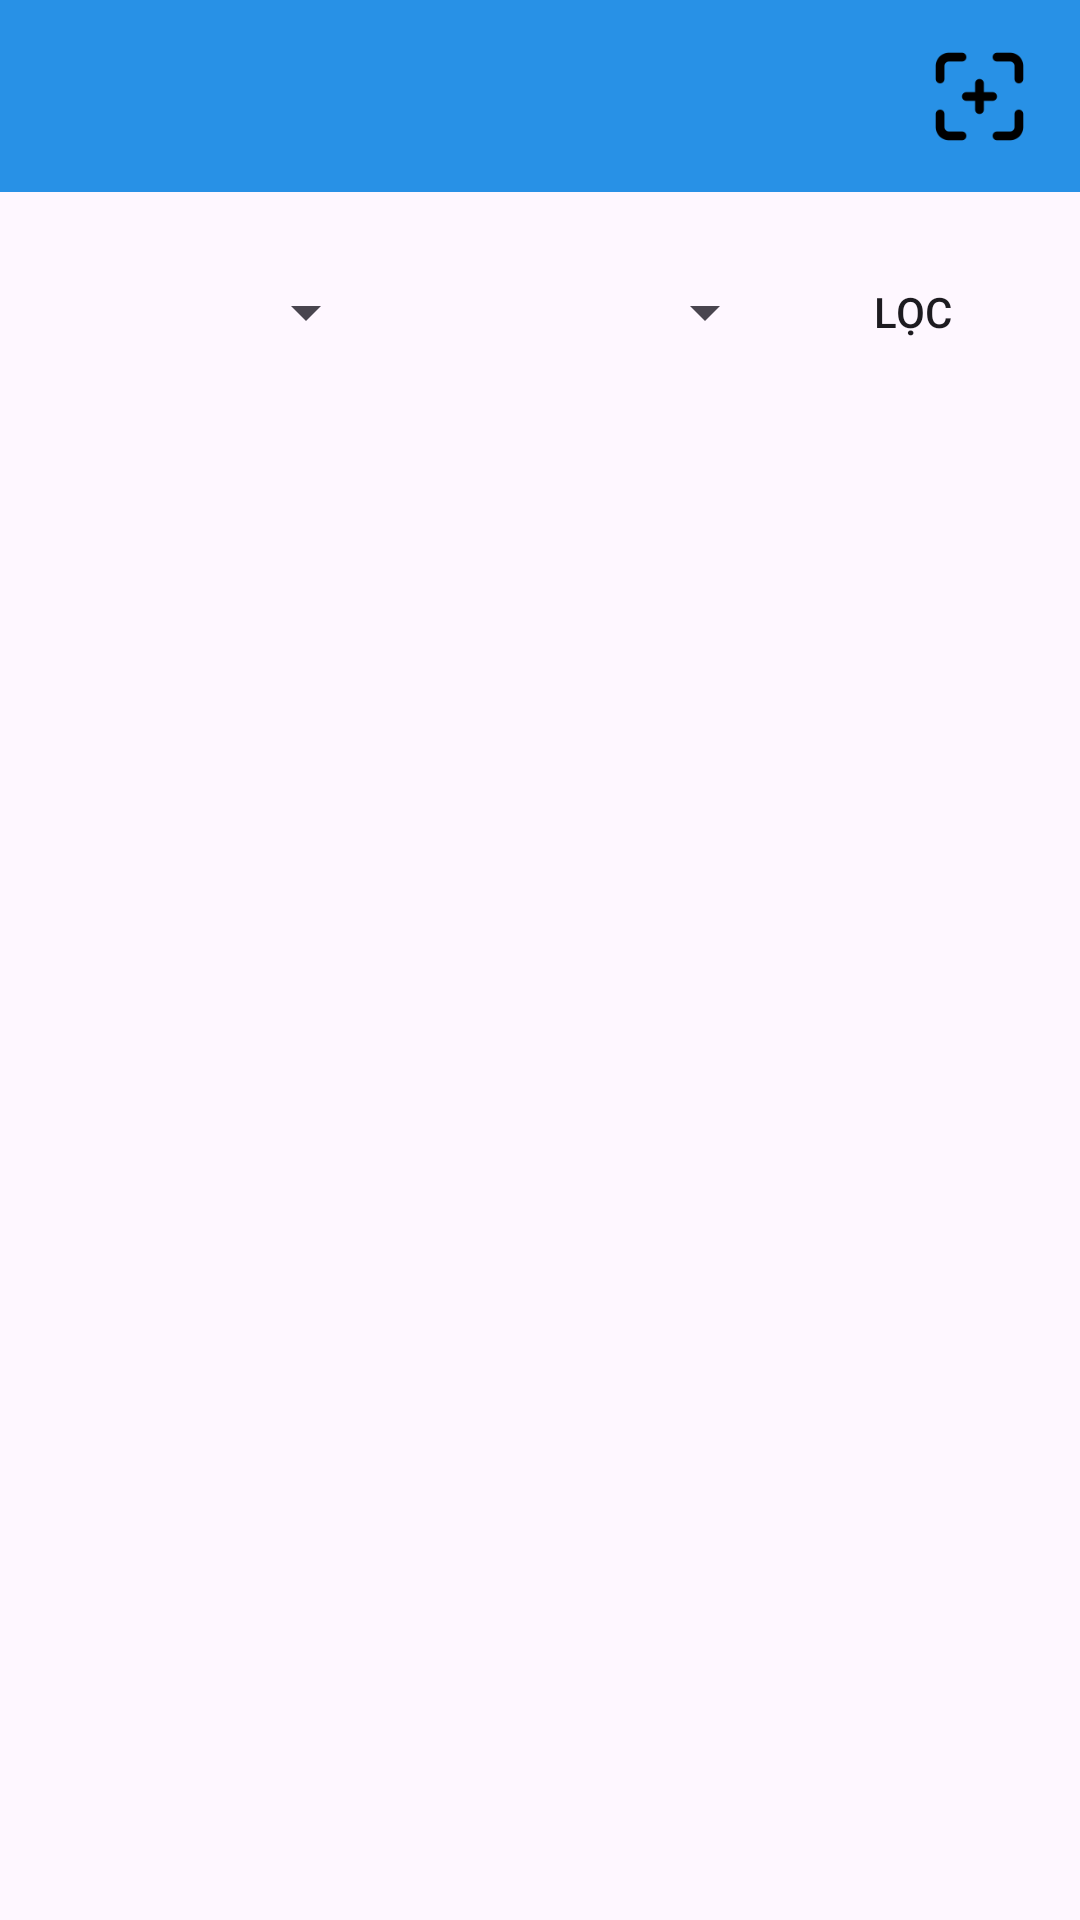

Icon click points for this 1080px x 1920px phone screenshot, format point (x, y):
addsquare: point (979, 96)
